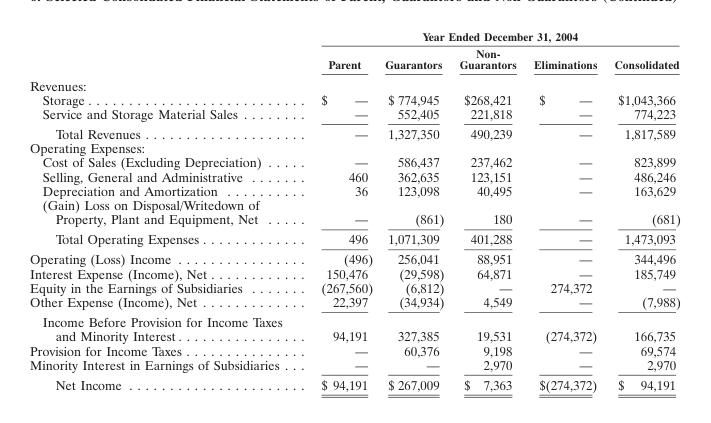table: (29, 28, 679, 391)
table column: (29, 28, 303, 391), (524, 28, 605, 391), (303, 28, 378, 391), (605, 28, 679, 391), (378, 28, 451, 391), (451, 28, 524, 391)
table column header: (29, 28, 679, 74)
table projected row header: (29, 74, 679, 92), (29, 140, 679, 154)
table row: (29, 197, 679, 228), (29, 311, 679, 342), (29, 44, 679, 74), (29, 228, 679, 248), (29, 74, 679, 92), (29, 106, 679, 123), (29, 123, 679, 140), (29, 248, 679, 265), (29, 294, 679, 311), (29, 357, 679, 374), (29, 374, 679, 391), (29, 28, 679, 44), (29, 154, 679, 169), (29, 265, 679, 280), (29, 342, 679, 357), (29, 92, 679, 106), (29, 140, 679, 154), (29, 169, 679, 183), (29, 183, 679, 197), (29, 280, 679, 294)
table spanning cell: (303, 28, 679, 44)
